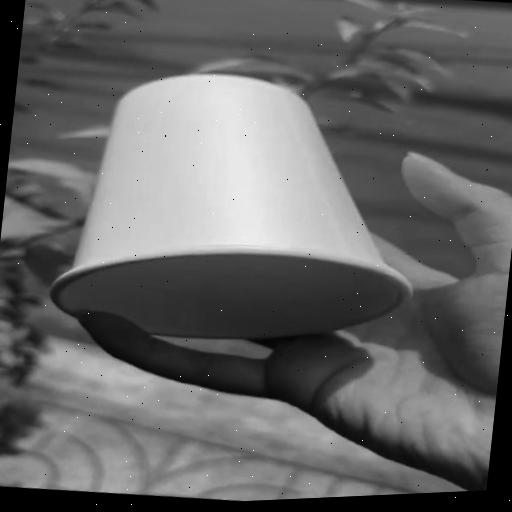ly_giay: (51, 74, 411, 338)
